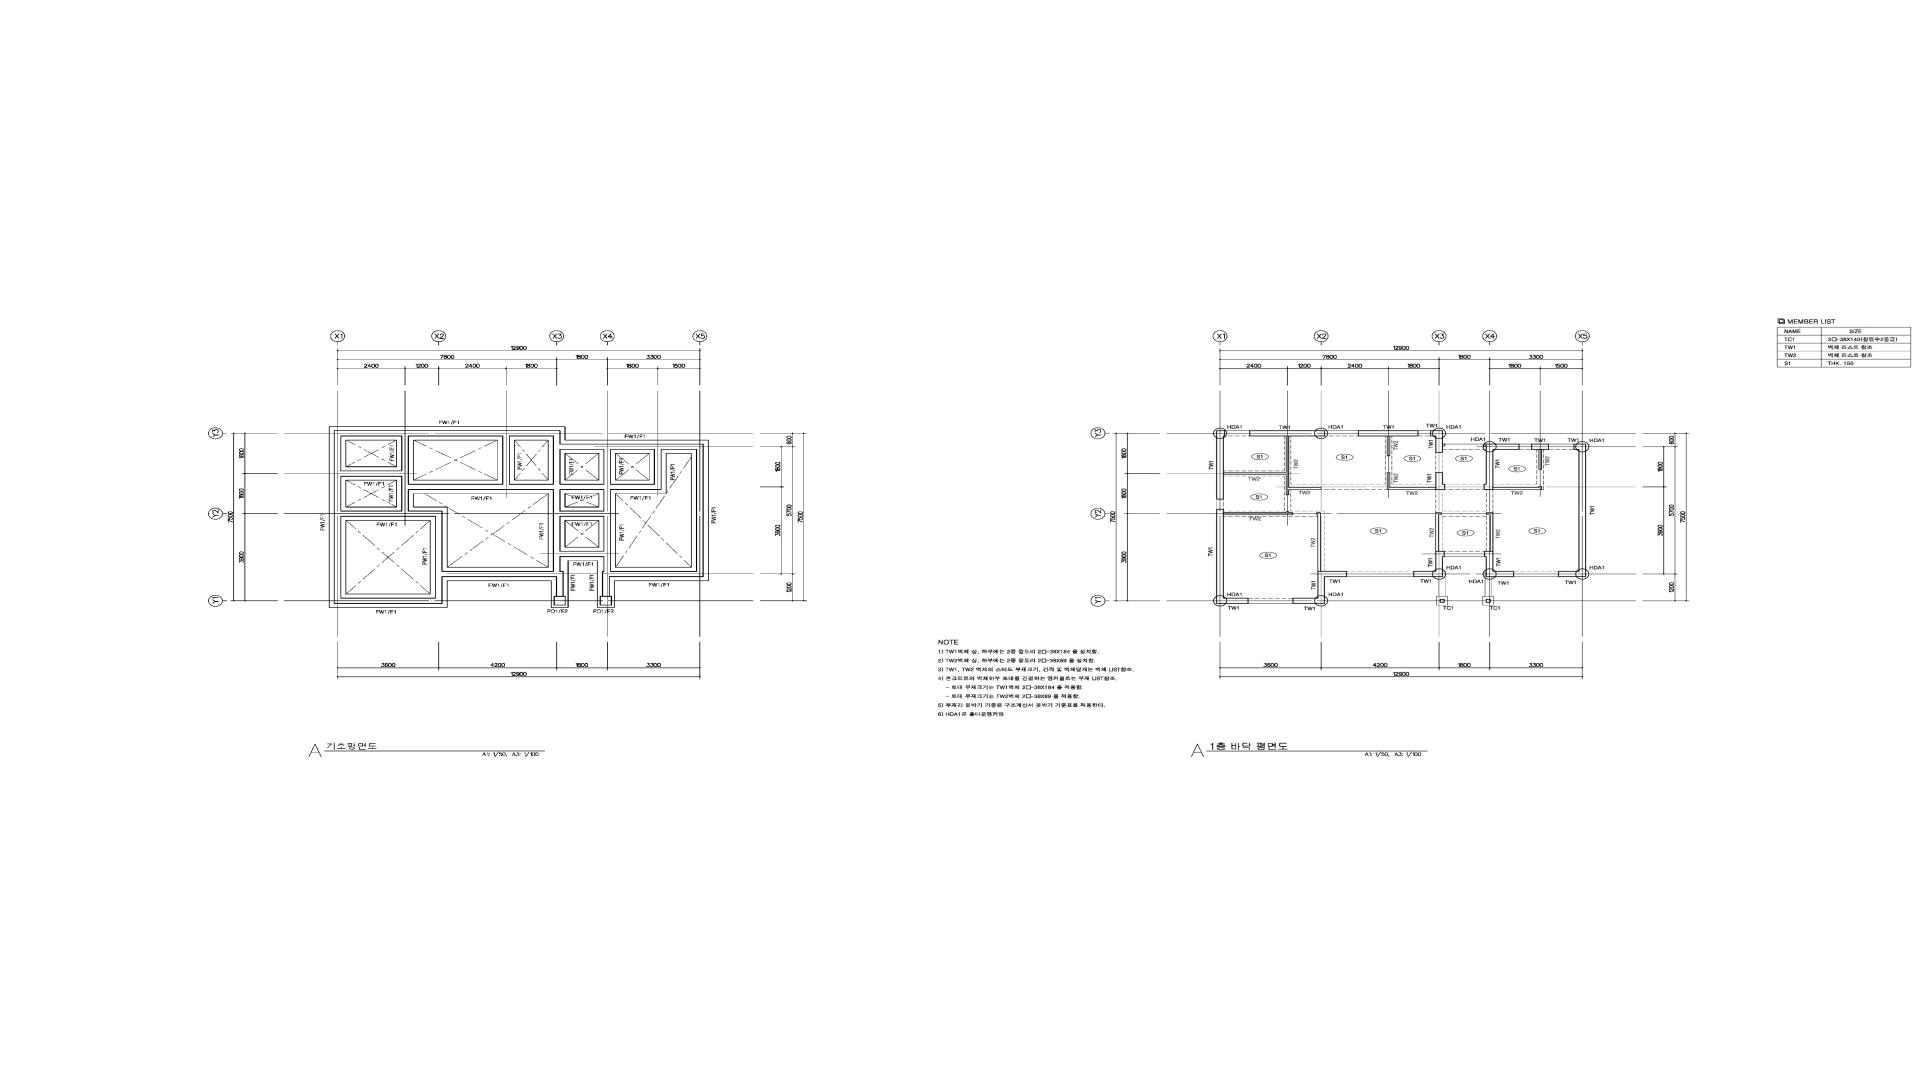wall: (334, 430, 560, 436), (409, 484, 604, 491), (334, 436, 342, 599), (696, 450, 704, 578), (1578, 450, 1586, 578), (553, 444, 704, 450), (604, 450, 611, 571), (443, 571, 564, 578), (1216, 509, 1224, 599), (435, 517, 443, 604), (342, 510, 443, 517), (334, 597, 435, 604), (553, 491, 560, 571), (603, 571, 696, 578), (401, 436, 409, 510), (1249, 430, 1325, 436), (1216, 436, 1224, 500), (1484, 450, 1494, 491), (1358, 430, 1419, 436), (342, 471, 401, 477), (502, 436, 510, 484), (654, 450, 662, 491), (1316, 513, 1321, 571), (611, 484, 654, 491), (560, 510, 604, 517), (1224, 512, 1294, 516), (553, 450, 560, 484), (560, 551, 604, 556), (1286, 436, 1290, 495), (1216, 597, 1249, 604), (1317, 578, 1325, 604), (1493, 487, 1542, 491), (1317, 571, 1346, 578), (1485, 551, 1494, 571), (1486, 571, 1514, 578), (1486, 444, 1519, 450), (1436, 472, 1445, 491), (1292, 597, 1317, 604), (1224, 472, 1286, 475), (1414, 571, 1436, 578), (603, 578, 611, 596), (556, 578, 564, 596), (1490, 516, 1494, 551), (1436, 556, 1443, 578), (1559, 571, 1578, 578), (1390, 488, 1436, 491), (600, 596, 612, 605), (554, 596, 566, 605), (1436, 436, 1443, 452), (1531, 444, 1549, 450), (1436, 516, 1439, 551), (1573, 443, 1586, 450), (1290, 488, 1321, 491), (1431, 430, 1443, 436), (553, 436, 560, 444), (1216, 430, 1225, 436), (1539, 450, 1542, 469), (1387, 436, 1390, 456), (1436, 551, 1445, 556), (1387, 472, 1390, 491), (1486, 513, 1494, 516), (1436, 513, 1441, 516)
